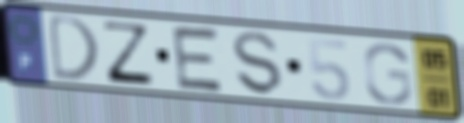5: (306, 35, 353, 102)
D: (46, 11, 101, 83)
E: (169, 23, 228, 95)
G: (361, 41, 414, 107)
S: (230, 30, 286, 98)
Z: (101, 19, 158, 88)
